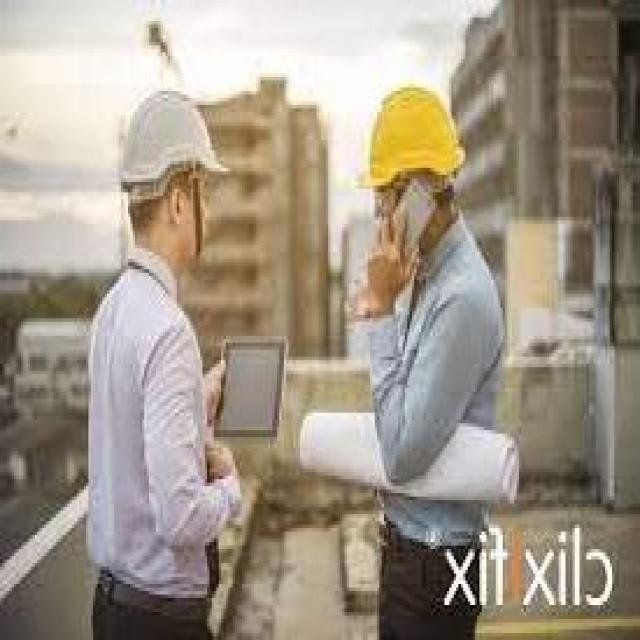Safety-Helmet: (347, 70, 470, 203), (105, 80, 230, 210)
